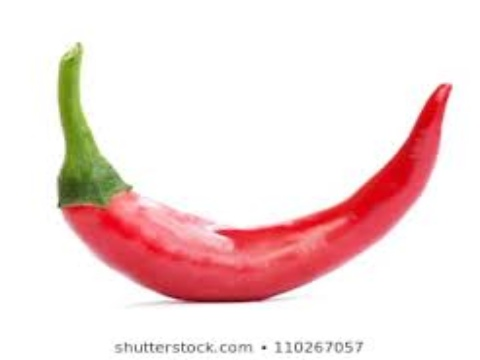Chilli: (43, 35, 454, 318)
